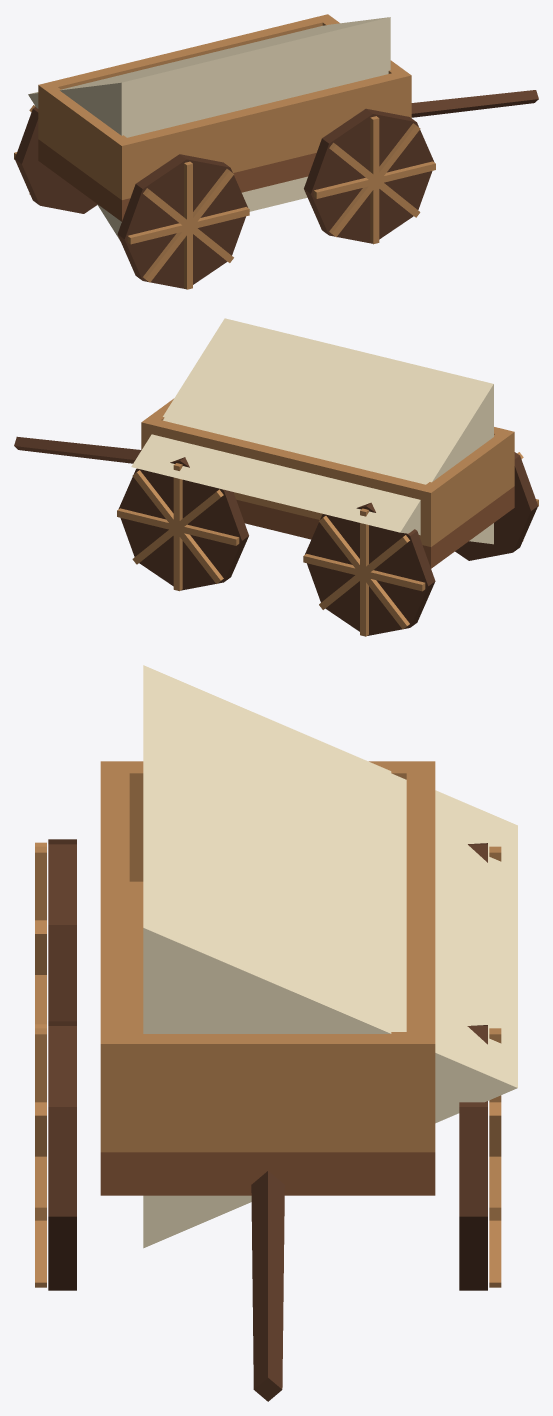
File: CA_Carreta.obj
3 views of the same model, one above another, from view 1: azimuth 30°, elevation 25°; view 2: azimuth 150°, elevation 25°; view 3: azimuth 270°, elevation 25° (orthographic). The views are drawn at different scales.
Visible parts, largest first — view 1: CA_Carreta; view 2: CA_Carreta; view 3: CA_Carreta.
Part boxes in pixels (x1,y1,x2,y2): CA_Carreta: (14, 14, 538, 289); CA_Carreta: (14, 318, 538, 636); CA_Carreta: (35, 665, 517, 1401).
Bounding box in the file's own units: 4.51 × 1.84 × 2.02.
